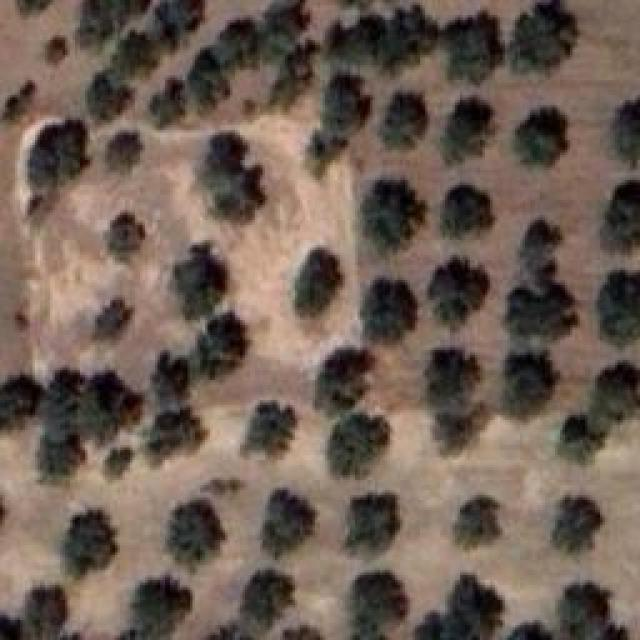Tree: (186, 18, 262, 110), (199, 132, 265, 222), (412, 575, 502, 640), (35, 368, 85, 484), (508, 0, 577, 72), (17, 118, 88, 187), (77, 370, 142, 445), (361, 180, 425, 253), (427, 258, 490, 331), (442, 10, 502, 83), (167, 500, 227, 572), (505, 280, 575, 340), (172, 243, 227, 319), (314, 348, 375, 415), (557, 582, 627, 640), (384, 3, 440, 73), (61, 510, 117, 580), (130, 575, 190, 640), (260, 488, 315, 558), (143, 408, 207, 468), (328, 412, 387, 477), (360, 278, 418, 344), (501, 350, 557, 418), (350, 572, 405, 640), (269, 40, 320, 110), (512, 107, 567, 167), (345, 495, 400, 555), (295, 248, 343, 316), (241, 570, 292, 633), (196, 314, 245, 378), (241, 400, 297, 456), (425, 405, 490, 453), (320, 72, 370, 134), (323, 15, 385, 65), (446, 98, 492, 165), (599, 272, 640, 347), (427, 347, 480, 404), (549, 495, 602, 551), (602, 180, 640, 252), (592, 362, 640, 419), (518, 218, 562, 280), (441, 185, 492, 238), (260, 0, 305, 59), (380, 92, 425, 150), (155, 0, 205, 51), (452, 498, 500, 550), (87, 67, 132, 121), (26, 585, 67, 640), (111, 30, 157, 78), (150, 353, 188, 411), (557, 418, 605, 463), (611, 97, 640, 167), (107, 212, 145, 262), (149, 78, 185, 129), (0, 375, 43, 415), (1, 77, 40, 121), (79, 0, 112, 46), (96, 298, 130, 339), (107, 134, 140, 174), (505, 622, 553, 640), (108, 448, 130, 480), (44, 38, 67, 66), (14, 0, 50, 16)
